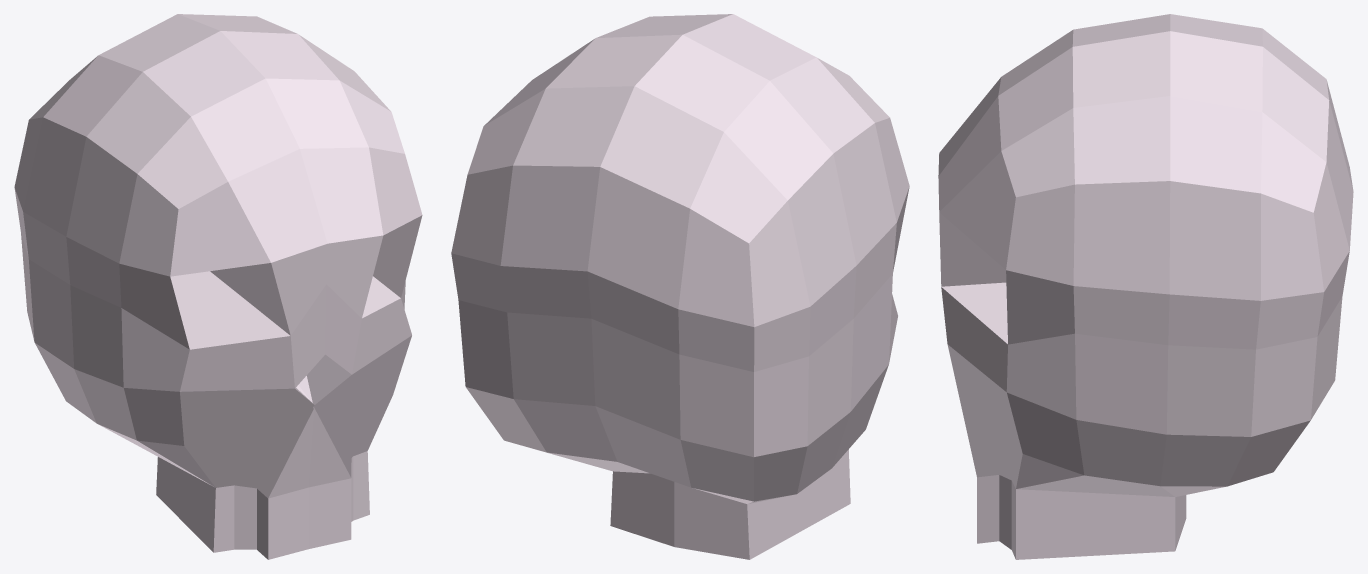
The model's file is third3.fbx.
3 renders of one model, left to right at view 1: azimuth 30°, elevation 25°; view 2: azimuth 150°, elevation 25°; view 3: azimuth 270°, elevation 25°, orthographic. The views are drawn at different scales.
Parts seen in each view (by area): view 1: Cube.013; view 2: Cube.013; view 3: Cube.013.
Part boxes in pixels (box(x1,y1,x2,y2)): Cube.013: box(14, 14, 422, 559); Cube.013: box(451, 14, 909, 559); Cube.013: box(938, 14, 1353, 559).
Size of the model in its own units: 67.81 by 94.47 by 72.42.
